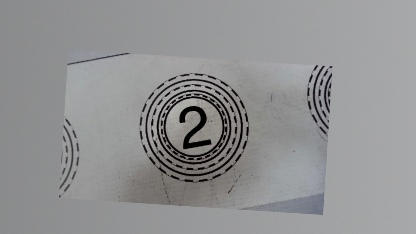2r: (133, 69, 253, 186)
